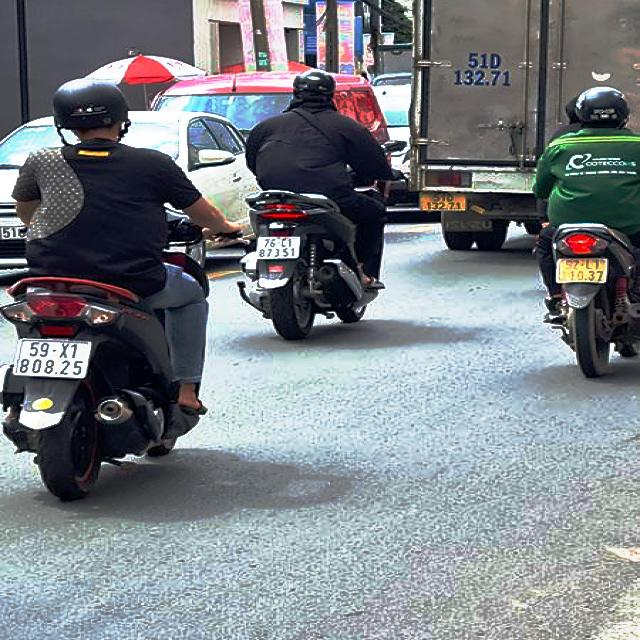license_plate: (16, 339, 93, 378), (560, 259, 609, 284), (259, 237, 301, 261), (421, 192, 468, 211)
